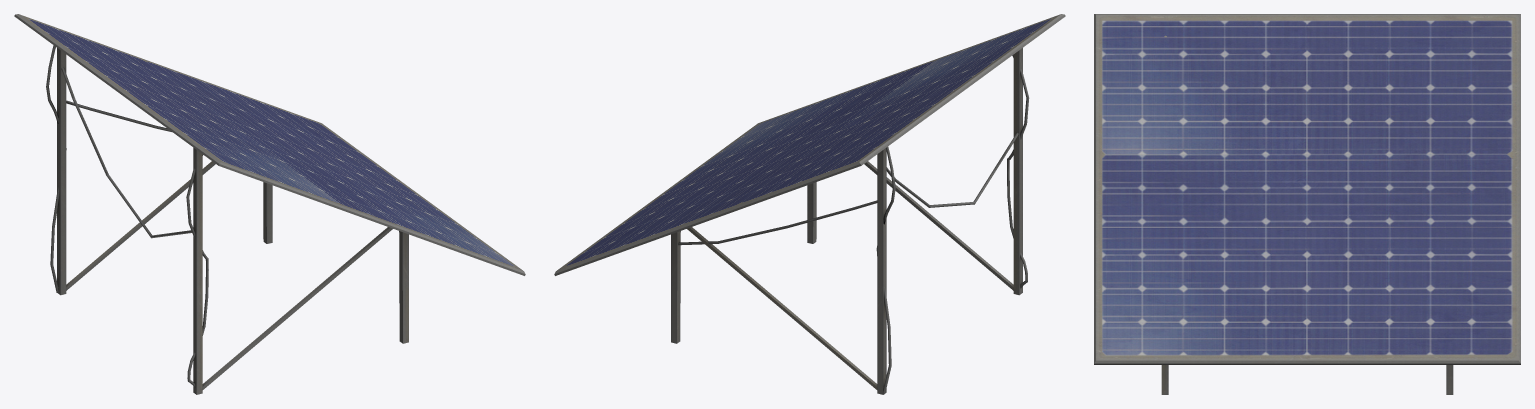
File: solar-panel.glb
3 renders of one model, left to right at view 1: azimuth 30°, elevation 25°; view 2: azimuth 150°, elevation 25°; view 3: azimuth 270°, elevation 25°, orthographic. The views are drawn at different scales.
Visible parts, largest first — view 1: Cube.7, Sweep; view 2: Cube.7, Sweep; view 3: Cube.7.
Boxes of the visible parts, <box> form: Cube.7: <box>14,14,525,394</box>; Sweep: <box>46,45,208,387</box>; Cube.7: <box>554,14,1065,394</box>; Sweep: <box>678,54,1029,394</box>; Cube.7: <box>1094,14,1520,394</box>.
Bounding box in the file's own units: 105 × 83.67 × 120.
10 materials, 9 textured.
